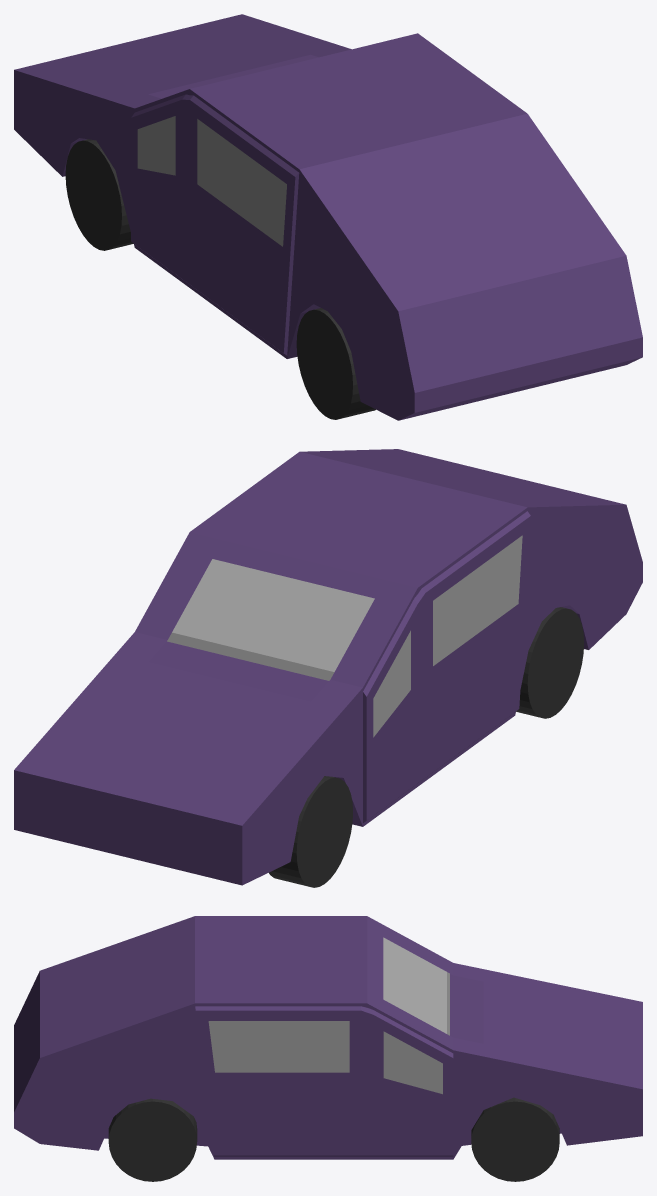
The model's file is badcarbody.fbx.
3 renders of one model, top to bottom at view 1: azimuth 30°, elevation 25°; view 2: azimuth 150°, elevation 25°; view 3: azimuth 270°, elevation 25°, orthographic. The views are drawn at different scales.
Visible parts, largest first — view 1: Body, Doors, Wheel_BL, Wheel_FL; view 2: Body, Doors, Wheel_FL, Wheel_BL; view 3: Body, Doors, Wheel_BR, Wheel_FR.
Part boxes in pixels (x1=…): Body: x1=14, y1=14, x2=642, y2=420; Doors: x1=131, y1=94, x2=299, y2=355; Wheel_BL: x1=296, y1=308, x2=375, y2=419; Wheel_FL: x1=65, y1=139, x2=133, y2=250; Body: x1=14, y1=449, x2=642, y2=885; Doors: x1=363, y1=511, x2=530, y2=822; Wheel_FL: x1=269, y1=776, x2=352, y2=887; Wheel_BL: x1=516, y1=607, x2=583, y2=718; Body: x1=14, y1=916, x2=642, y2=1159; Doors: x1=195, y1=1006, x2=453, y2=1156; Wheel_BR: x1=108, y1=1098, x2=197, y2=1181; Wheel_FR: x1=471, y1=1097, x2=559, y2=1181.
Size of the model in its own units: 248 by 228 by 730.
